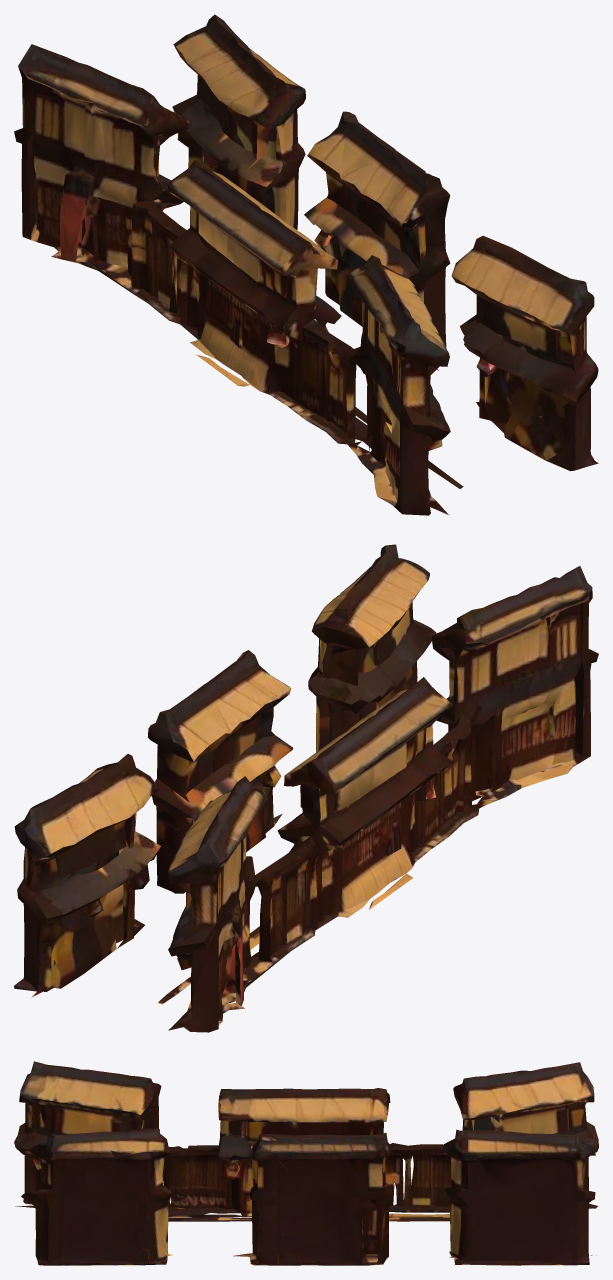
File: hanamikoji.glb
The picture shows the model from 3 angles, top to bottom: view 1: azimuth 30°, elevation 25°; view 2: azimuth 150°, elevation 25°; view 3: azimuth 270°, elevation 25°; orthographic projection. The views are drawn at different scales.
Visible parts, largest first — view 1: logan-textured.obj; view 2: logan-textured.obj; view 3: logan-textured.obj.
Part boxes in pixels (x1=…): logan-textured.obj: x1=14, y1=14, x2=598, y2=515; logan-textured.obj: x1=14, y1=544, x2=598, y2=1032; logan-textured.obj: x1=14, y1=1061, x2=598, y2=1265.
Bounding box in the file's own units: 0.2958 × 0.2624 × 1.
1 material, 1 textured.
